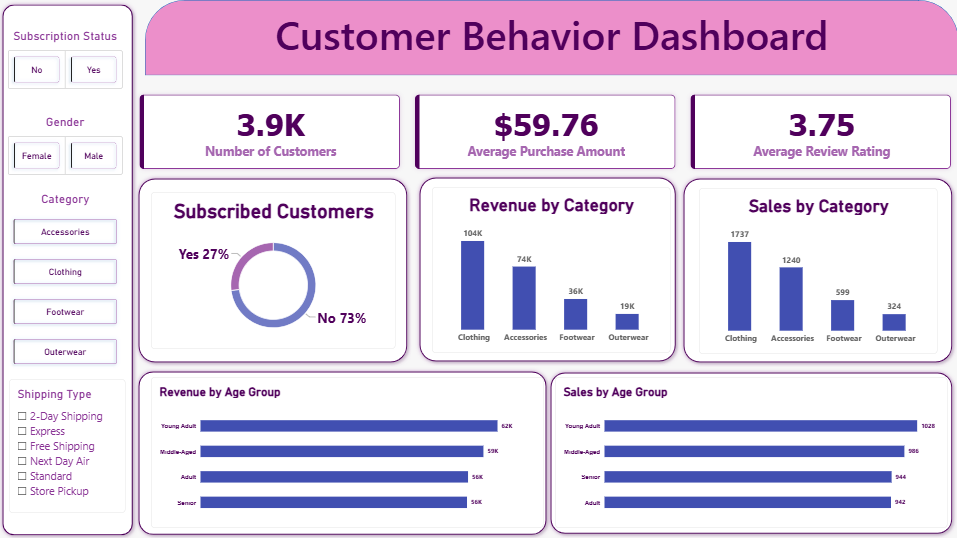

The page's visual inventory and layout, read from the dashboard file:
{"tool":"powerbi","page":{"name":"Page 1","canvas":[1920,1080],"ordinal":0},"visuals":[{"type":"cardVisual","fields":{"Data":["customerbehaviouranalysis customer.Number of Customers","customerbehaviouranalysis customer.Average Purchase Amount","customerbehaviouranalysis customer.Average Review Rating"]},"box":[272.5,177.5,1647.5,171.4],"z":0},{"type":"shape","box":[293.2,0,1626.8,150.7],"z":1000},{"type":"textbox","box":[293.2,14.5,1626.8,119.7],"z":2000},{"type":"shape","box":[272.5,348.9,555.4,386.1],"z":3000},{"type":"donutChart","title":"Subscribed Customers","fields":{"Category":["customerbehaviouranalysis customer.subscription_status"],"Y":["Count(customerbehaviouranalysis customer.customer_id)"]},"box":[305.5,384,489.3,313.8],"z":4000},{"type":"shape","box":[834.1,346.8,530.6,386.1],"z":5000},{"type":"shape","box":[1362.6,348.9,555.4,386.1],"z":6000},{"type":"clusteredColumnChart","title":"Revenue by Category","fields":{"Category":["customerbehaviouranalysis customer.category"],"Y":["Sum(customerbehaviouranalysis customer.purchase_amount)"]},"box":[867.1,373.7,476.9,332.4],"z":7000},{"type":"clusteredColumnChart","title":"Sales by Category","fields":{"Category":["customerbehaviouranalysis customer.category"],"Y":["CountNonNull(customerbehaviouranalysis customer.customer_id)"]},"box":[1401.8,375.7,476.9,332.4],"z":8000},{"type":"shape","box":[0,0,278.7,1079.7],"z":9000},{"type":"advancedSlicerVisual","fields":{"Values":["customerbehaviouranalysis customer.subscription_status"]},"box":[20.6,57.8,229.2,119.7],"z":10000},{"type":"advancedSlicerVisual","fields":{"Values":["customerbehaviouranalysis customer.gender"]},"box":[20.6,229.2,229.2,119.7],"z":11000},{"type":"advancedSlicerVisual","title":"Category","fields":{"Values":["customerbehaviouranalysis customer.category"]},"box":[20.6,384,229.2,355.1],"z":12000},{"type":"listSlicer","fields":{"Values":["customerbehaviouranalysis customer.shipping_type"]},"box":[22.7,757.7,233.3,268.4],"z":13000},{"type":"shape","box":[272.3,734,834,344.7],"z":14000},{"type":"shape","box":[1095.7,736.2,821.3,340.4],"z":15000},{"type":"clusteredBarChart","title":"Revenue by Age Group","fields":{"Category":["customerbehaviouranalysis customer.age_group"],"Y":["Sum(customerbehaviouranalysis customer.purchase_amount)"]},"box":[305.2,754.9,785.1,302.1],"z":15001},{"type":"clusteredBarChart","title":"Sales by Age Group","fields":{"Category":["customerbehaviouranalysis customer.age_group"],"Y":["CountNonNull(customerbehaviouranalysis customer.customer_id)"]},"box":[1114.3,754.9,785.1,302.1],"z":15002}]}

Visuals, with their boxes in screenshot pixels (x1, y1, x2, y2), scaled from the page's 1920x1080 canvas onto the 957x538 screenshot:
cardVisual - customerbehaviouranalysis customer.Number of Customers x customerbehaviouranalysis customer.Average Purchase Amount: {"left": 136, "top": 88, "right": 956, "bottom": 174}
shape: {"left": 146, "top": 0, "right": 956, "bottom": 75}
textbox: {"left": 146, "top": 7, "right": 956, "bottom": 67}
shape: {"left": 136, "top": 174, "right": 413, "bottom": 366}
"Subscribed Customers" donutChart: {"left": 152, "top": 191, "right": 396, "bottom": 348}
shape: {"left": 416, "top": 173, "right": 680, "bottom": 365}
shape: {"left": 679, "top": 174, "right": 956, "bottom": 366}
"Revenue by Category" clusteredColumnChart: {"left": 432, "top": 186, "right": 670, "bottom": 352}
"Sales by Category" clusteredColumnChart: {"left": 699, "top": 187, "right": 936, "bottom": 353}
shape: {"left": 0, "top": 0, "right": 139, "bottom": 537}
advancedSlicerVisual - customerbehaviouranalysis customer.subscription_status: {"left": 10, "top": 29, "right": 125, "bottom": 88}
advancedSlicerVisual - customerbehaviouranalysis customer.gender: {"left": 10, "top": 114, "right": 125, "bottom": 174}
"Category" advancedSlicerVisual: {"left": 10, "top": 191, "right": 125, "bottom": 368}
listSlicer - customerbehaviouranalysis customer.shipping_type: {"left": 11, "top": 377, "right": 128, "bottom": 511}
shape: {"left": 136, "top": 366, "right": 551, "bottom": 537}
shape: {"left": 546, "top": 367, "right": 956, "bottom": 536}
"Revenue by Age Group" clusteredBarChart: {"left": 152, "top": 376, "right": 543, "bottom": 527}
"Sales by Age Group" clusteredBarChart: {"left": 555, "top": 376, "right": 947, "bottom": 527}
